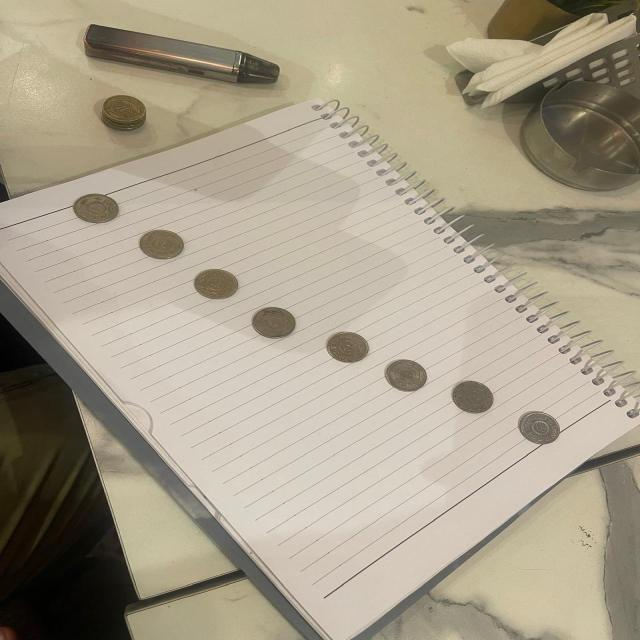Half Pound: (101, 95, 148, 124)
quarter pound: (451, 380, 495, 414), (193, 268, 239, 300), (73, 192, 120, 223), (386, 359, 428, 392), (139, 229, 184, 259), (327, 332, 370, 362), (252, 309, 295, 337), (522, 414, 558, 442)
